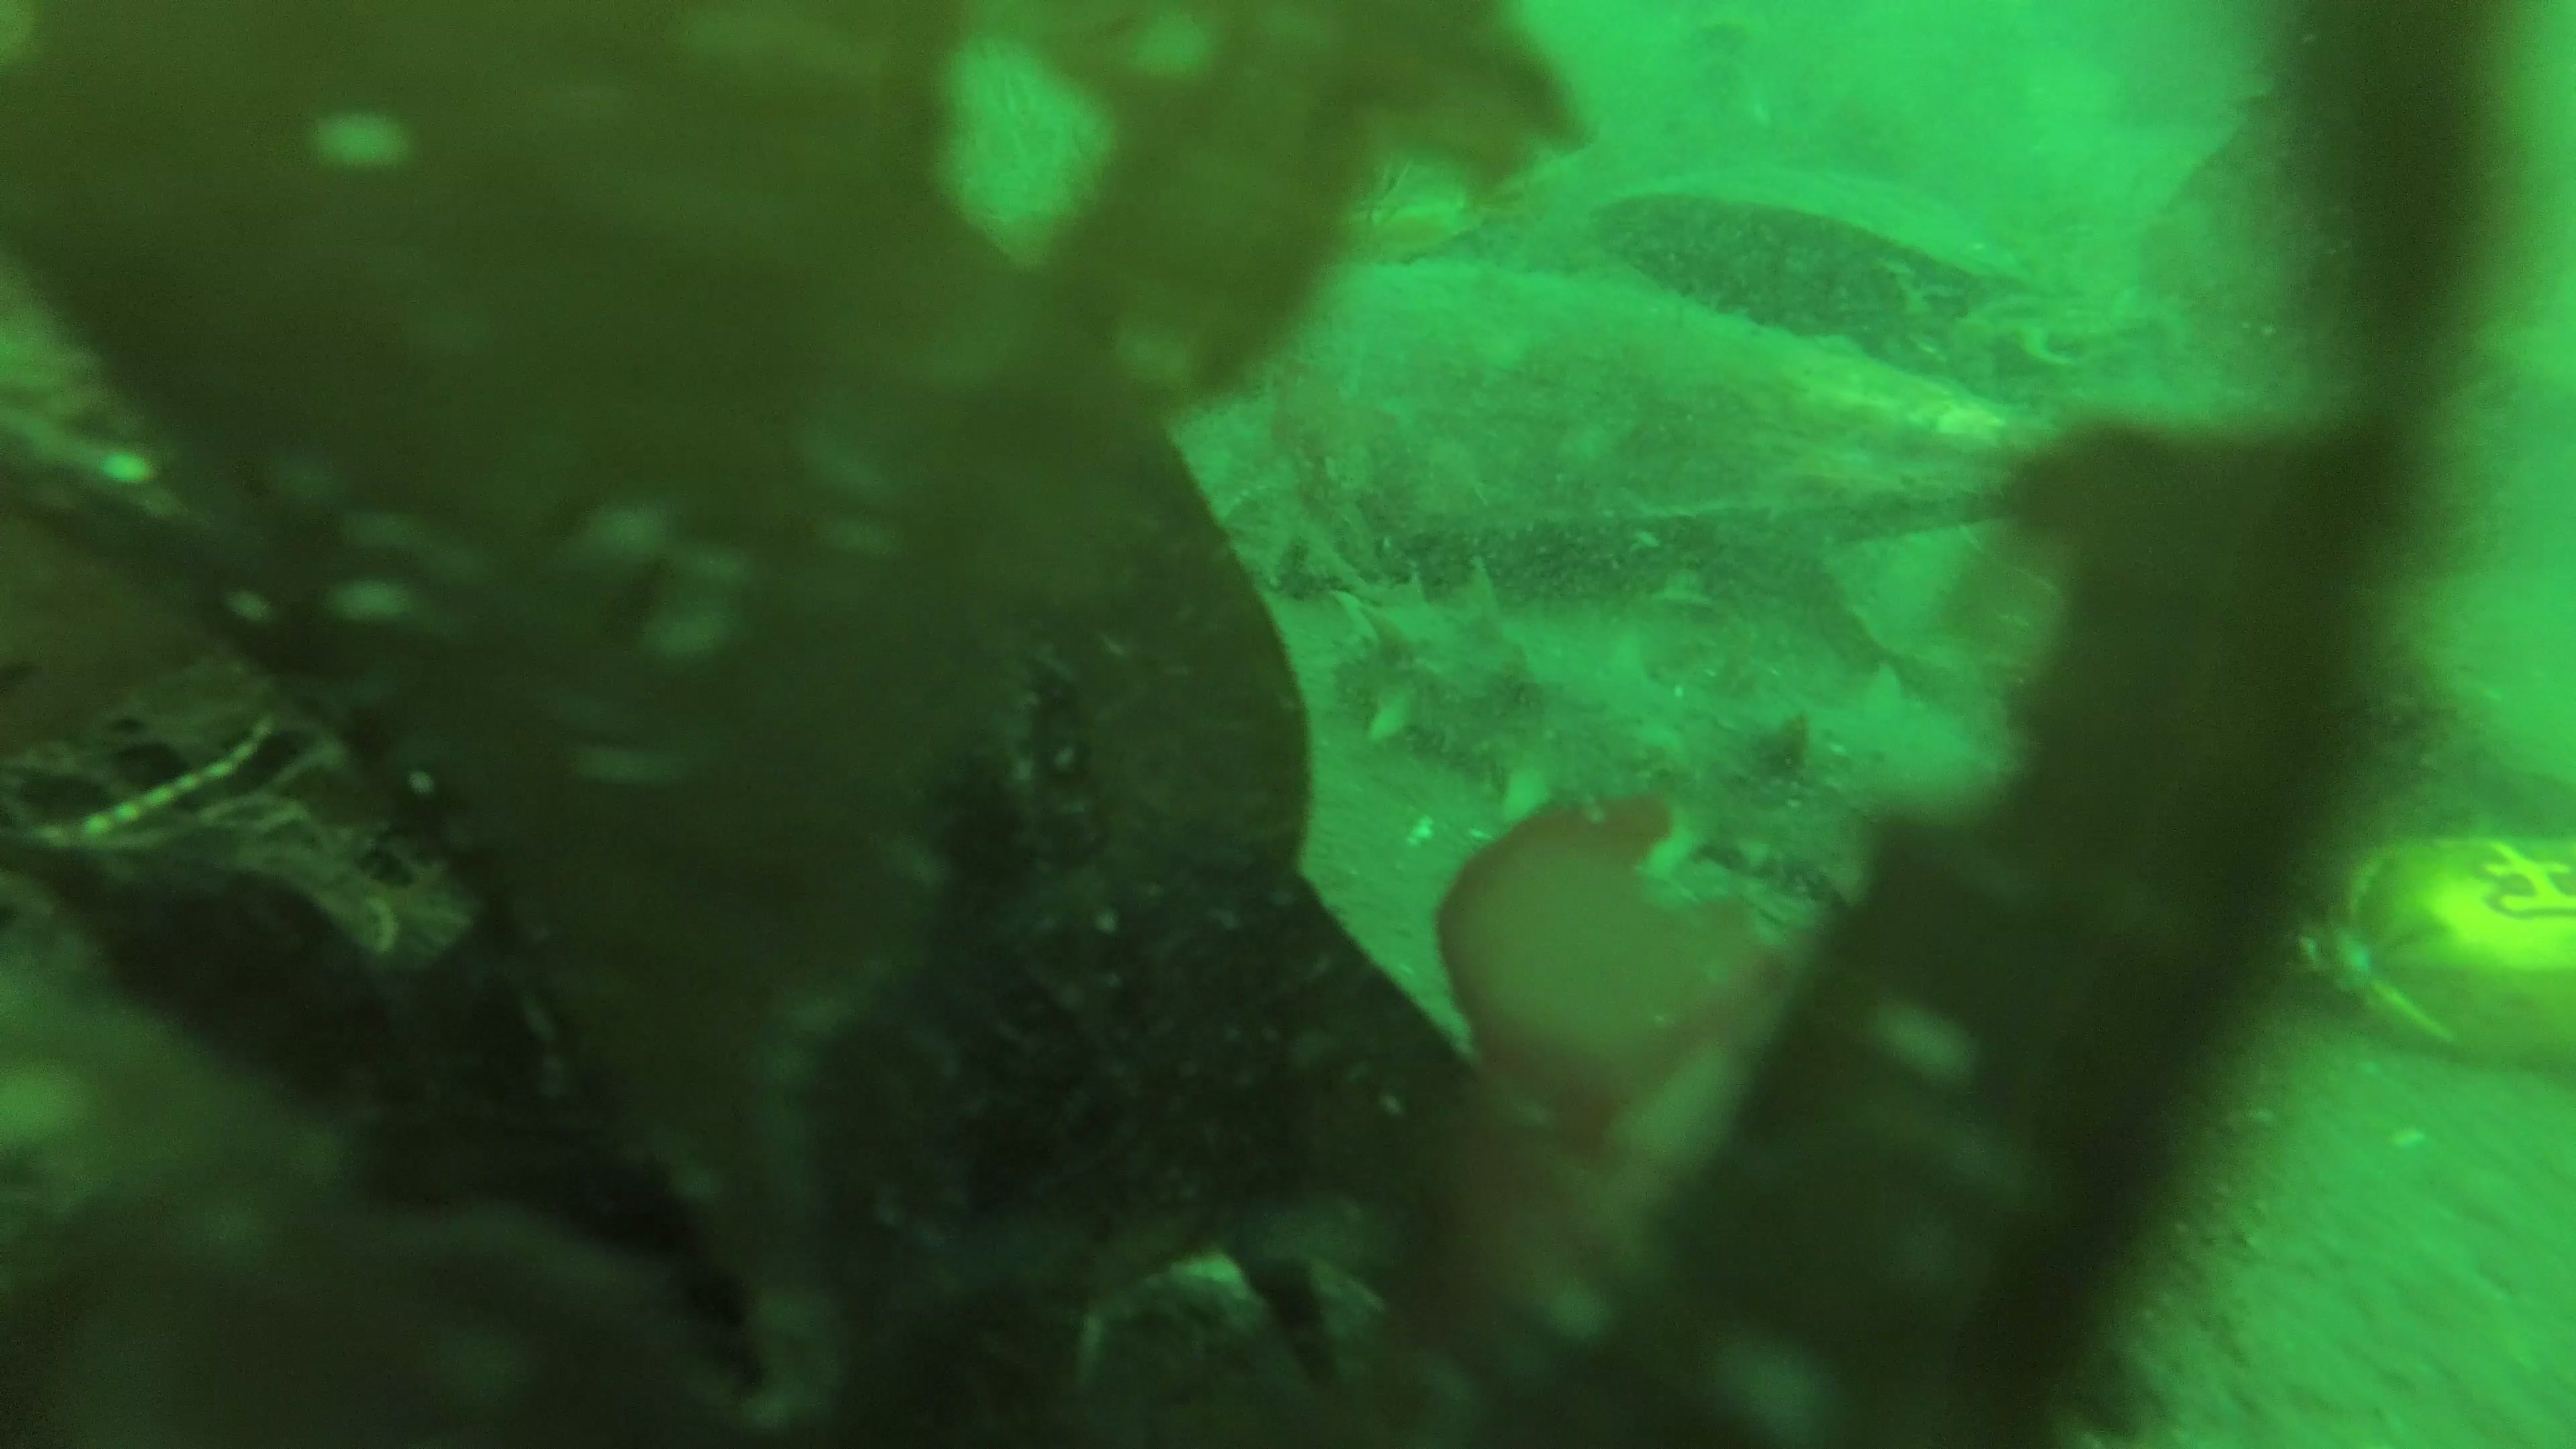holothurian: (1329, 563, 2289, 934), (1762, 557, 1764, 559)
scallop: (1594, 143, 2074, 352)
